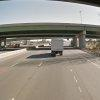Bridge: (3, 15, 94, 42)
